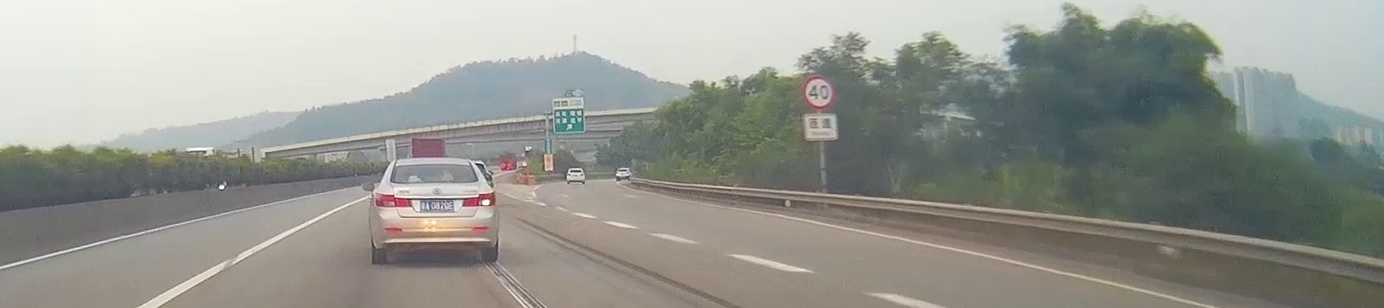L_light: (375, 193, 411, 208)
R_light: (462, 191, 496, 207)
T_light: (425, 163, 444, 166)
day-right: (368, 158, 500, 263)
